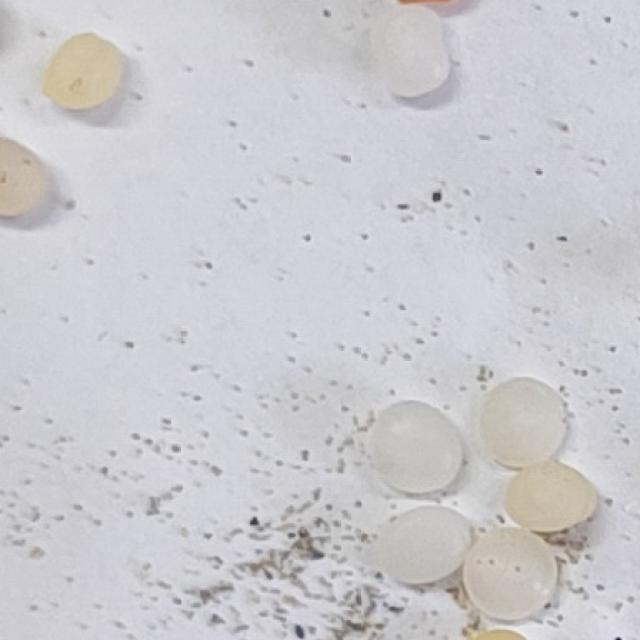beads: (352, 387, 481, 515), (361, 485, 481, 606), (34, 23, 134, 127), (461, 528, 563, 625), (364, 0, 458, 105), (502, 456, 606, 546), (477, 374, 570, 473), (0, 137, 46, 219)
